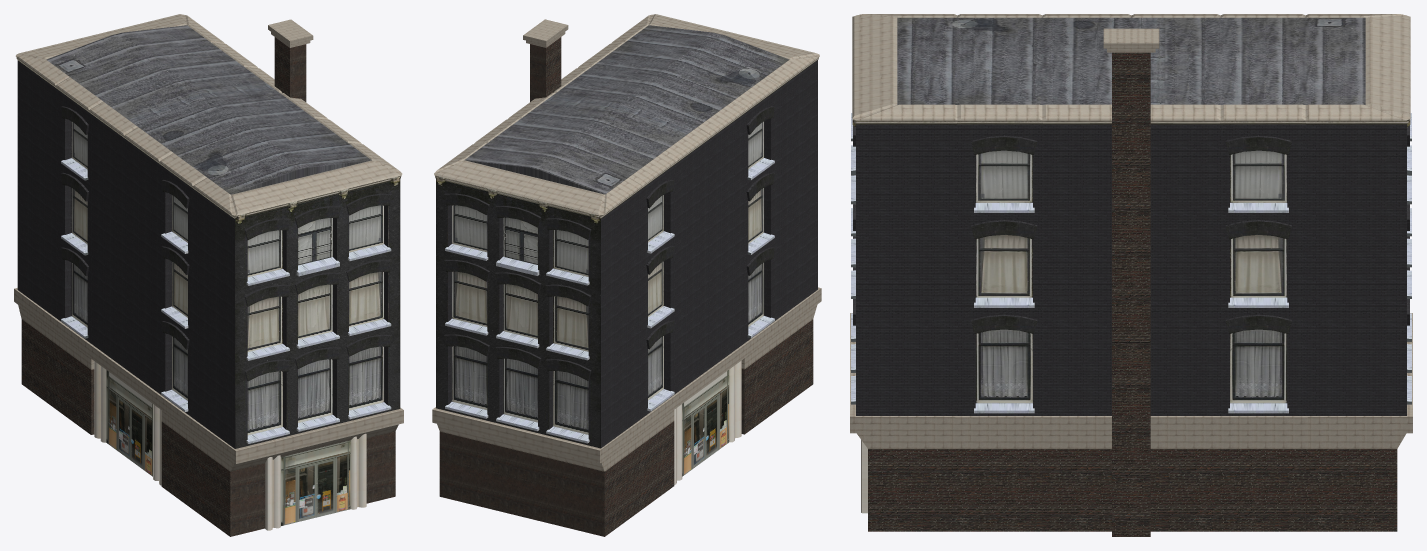
Rendered from Building_A04.obj.
3 views of the same model, side by side, from view 1: azimuth 30°, elevation 25°; view 2: azimuth 150°, elevation 25°; view 3: azimuth 270°, elevation 25° (orthographic). The views are drawn at different scales.
Visible parts, largest first — view 1: K_Building_A04_00; view 2: K_Building_A04_00; view 3: K_Building_A04_00.
Boxes of the visible parts, left/top/right/bottom form: K_Building_A04_00: left=14, top=14, right=403, bottom=536; K_Building_A04_00: left=432, top=14, right=821, bottom=536; K_Building_A04_00: left=850, top=14, right=1412, bottom=536.
Bounding box in the file's own units: 6.83 × 14.26 × 14.67.
